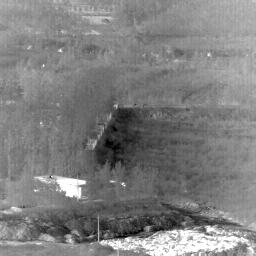aircraft: (90, 52, 92, 54)
